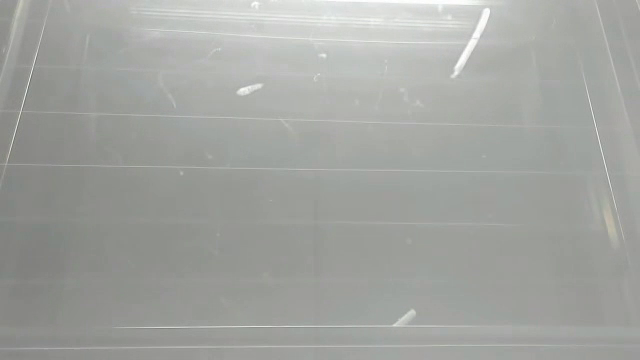alpha: (448, 6, 495, 81), (390, 304, 420, 330), (234, 81, 267, 98)
